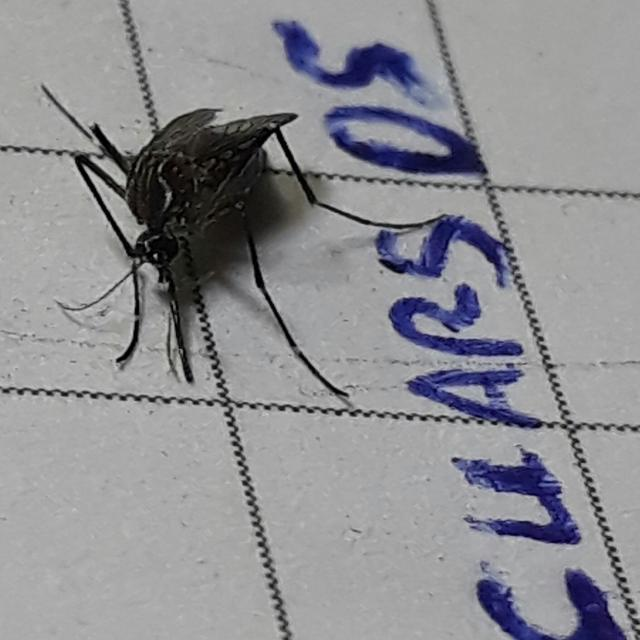aegypti: (19, 28, 592, 523)
